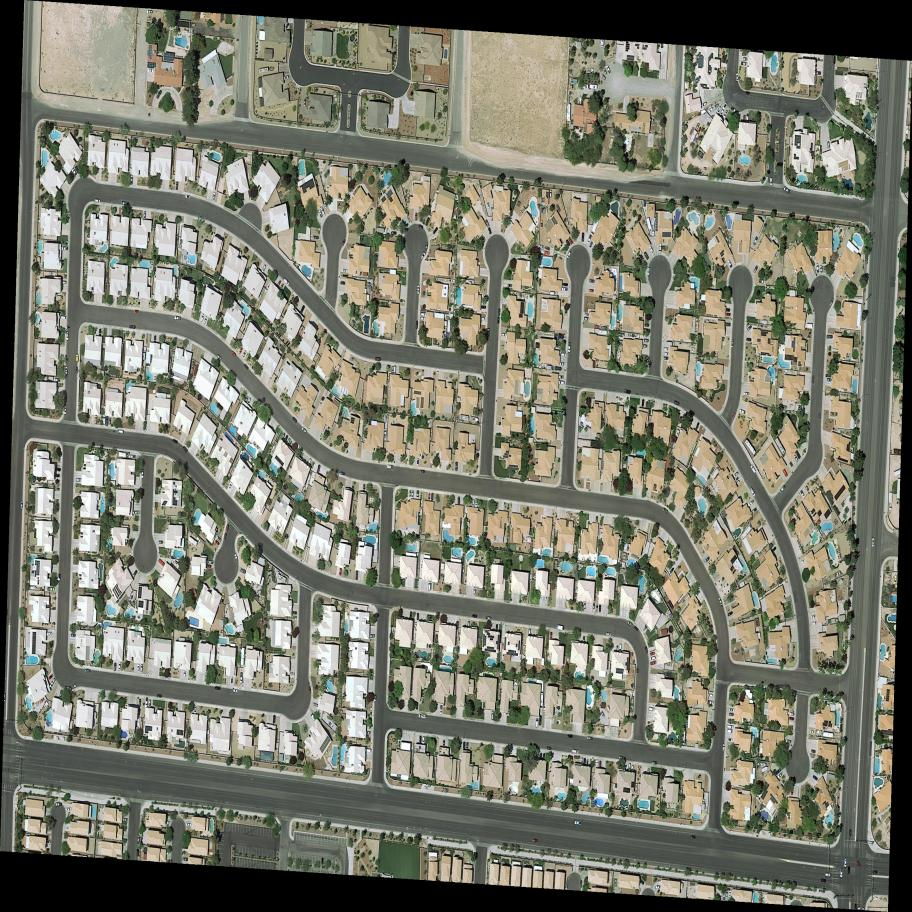large-vehicle: (281, 277, 292, 287), (555, 624, 566, 632), (194, 535, 203, 544), (393, 365, 396, 375)
ship: (759, 765, 770, 775), (585, 67, 594, 74), (758, 761, 766, 767), (744, 90, 751, 96)
small-vehicle: (156, 557, 167, 568), (155, 89, 164, 100), (687, 408, 697, 417), (703, 554, 712, 564), (73, 165, 82, 175), (748, 486, 756, 497), (794, 449, 802, 460), (260, 263, 268, 274), (632, 624, 641, 633), (242, 362, 251, 371), (811, 773, 820, 782), (599, 709, 607, 719), (283, 21, 291, 31), (432, 226, 440, 236), (648, 244, 655, 255), (726, 610, 735, 618), (668, 566, 676, 575), (706, 558, 714, 567), (229, 350, 238, 358), (729, 105, 738, 113), (131, 569, 139, 578), (546, 236, 554, 245), (750, 464, 757, 474), (643, 251, 650, 261), (588, 239, 595, 249), (717, 596, 724, 606), (721, 101, 728, 111), (227, 481, 234, 491), (299, 304, 306, 314), (555, 203, 562, 213), (732, 470, 740, 478), (746, 324, 754, 332), (747, 499, 755, 507), (776, 772, 784, 780), (215, 353, 223, 361), (49, 678, 56, 687), (855, 860, 862, 869), (600, 72, 607, 81), (276, 279, 283, 288), (564, 238, 571, 247), (753, 236, 759, 246), (829, 297, 835, 307), (425, 217, 431, 227), (221, 592, 226, 604), (484, 219, 490, 229), (783, 186, 791, 193), (627, 620, 634, 628), (71, 168, 78, 176), (745, 336, 753, 343), (700, 101, 708, 108), (339, 470, 347, 477), (212, 581, 219, 589), (239, 567, 247, 574), (70, 683, 78, 690), (316, 463, 321, 474), (59, 688, 64, 699), (341, 238, 347, 247), (723, 109, 729, 118), (649, 660, 658, 666), (725, 724, 734, 730), (418, 713, 427, 719), (602, 68, 608, 77), (243, 395, 249, 404), (606, 65, 611, 75), (644, 645, 649, 655), (486, 201, 491, 211), (793, 455, 800, 462), (662, 508, 669, 515), (771, 545, 778, 552), (707, 107, 714, 114), (558, 334, 565, 341), (283, 74, 290, 81), (292, 415, 298, 423), (47, 674, 55, 680), (420, 252, 426, 260), (780, 485, 786, 493), (800, 490, 806, 498), (568, 237, 574, 245), (673, 400, 681, 406), (543, 250, 551, 256), (649, 655, 657, 661), (581, 83, 589, 89), (788, 461, 794, 469), (64, 686, 72, 692), (29, 585, 37, 591), (549, 290, 557, 296), (310, 713, 315, 722), (234, 554, 239, 563), (727, 259, 732, 268), (587, 235, 592, 244), (697, 126, 702, 135), (135, 848, 140, 857), (307, 457, 312, 466), (728, 889, 733, 898), (424, 242, 429, 251), (239, 672, 243, 683), (839, 867, 843, 878), (893, 574, 897, 585), (142, 350, 146, 361), (538, 715, 542, 726), (455, 461, 459, 472), (214, 540, 221, 546), (387, 464, 394, 470), (713, 102, 719, 109), (753, 266, 759, 273), (782, 470, 788, 477), (750, 508, 757, 514), (583, 312, 590, 318), (707, 700, 714, 706), (824, 872, 831, 878), (815, 70, 822, 76), (826, 334, 833, 340), (799, 559, 806, 565), (214, 685, 221, 691), (342, 268, 349, 274), (417, 224, 424, 230), (555, 366, 562, 372), (238, 347, 243, 355), (793, 498, 798, 506), (566, 251, 571, 259), (568, 342, 572, 352), (571, 748, 579, 753), (623, 389, 631, 394), (641, 398, 645, 408), (648, 651, 656, 656), (847, 865, 851, 875), (805, 485, 810, 493), (595, 759, 599, 769), (355, 571, 359, 581), (272, 714, 276, 724), (416, 490, 420, 500), (247, 397, 252, 405), (374, 356, 382, 361), (230, 675, 234, 685), (58, 315, 66, 320), (415, 701, 419, 711), (415, 320, 419, 330), (722, 891, 726, 901), (474, 497, 478, 507), (175, 182, 179, 192), (216, 536, 222, 542), (225, 524, 229, 533), (302, 427, 308, 433), (118, 662, 122, 671), (605, 632, 611, 638), (587, 735, 593, 741), (735, 480, 741, 486), (734, 476, 740, 482), (679, 415, 683, 424), (645, 400, 649, 409), (642, 343, 648, 349), (598, 604, 602, 613), (722, 743, 726, 752), (790, 787, 794, 796), (746, 113, 750, 122), (308, 686, 312, 695), (410, 490, 414, 499), (409, 610, 413, 619), (422, 735, 426, 744), (690, 834, 696, 840), (391, 230, 397, 236), (481, 304, 487, 310), (560, 361, 566, 367), (427, 492, 431, 501), (174, 316, 181, 321), (242, 351, 247, 358), (312, 702, 319, 707), (717, 106, 722, 113), (695, 123, 700, 130), (590, 84, 597, 89), (643, 328, 650, 333), (759, 279, 766, 284), (728, 707, 735, 712), (820, 878, 827, 883), (365, 748, 372, 753), (562, 282, 569, 287), (417, 285, 420, 296), (491, 710, 494, 721), (201, 313, 205, 321), (204, 316, 208, 324), (212, 193, 216, 201), (321, 207, 325, 215), (319, 210, 323, 218), (581, 233, 585, 241), (592, 602, 596, 610), (844, 859, 848, 867), (193, 706, 197, 714), (153, 334, 157, 342), (98, 328, 102, 336), (47, 587, 55, 591), (586, 758, 590, 766), (549, 631, 553, 639), (462, 741, 466, 749), (362, 483, 366, 491), (133, 510, 139, 515), (123, 817, 129, 822), (145, 697, 148, 707), (741, 61, 747, 66), (740, 409, 746, 414), (659, 242, 662, 252), (643, 338, 649, 343), (66, 331, 69, 341), (811, 614, 817, 619), (589, 278, 595, 283), (664, 351, 669, 357), (595, 324, 600, 330), (544, 246, 550, 251), (538, 244, 544, 249), (727, 729, 733, 734), (619, 643, 622, 653), (872, 870, 878, 875), (789, 716, 795, 721), (786, 739, 792, 744), (810, 749, 816, 754), (825, 373, 831, 378), (826, 378, 832, 383), (809, 729, 815, 734), (137, 834, 140, 844), (183, 857, 189, 862), (45, 839, 51, 844), (374, 693, 377, 703), (291, 610, 297, 615), (61, 280, 67, 285), (207, 563, 212, 569), (71, 633, 77, 638), (398, 604, 403, 610), (567, 734, 573, 739), (457, 496, 460, 506), (340, 280, 346, 285), (540, 220, 543, 230), (420, 312, 426, 317), (558, 375, 564, 380), (223, 533, 227, 540), (129, 325, 136, 329), (146, 10, 153, 14), (707, 693, 714, 697), (536, 719, 539, 728), (65, 366, 68, 375), (103, 416, 106, 425), (816, 263, 819, 272), (820, 265, 823, 274), (647, 267, 650, 276), (64, 406, 67, 415), (849, 829, 852, 838), (391, 365, 394, 374), (143, 211, 146, 220), (148, 699, 151, 708), (138, 699, 141, 708), (456, 621, 459, 630), (528, 628, 531, 637), (472, 498, 475, 507), (304, 99, 307, 108), (130, 454, 135, 459), (589, 288, 594, 293), (539, 249, 544, 254), (619, 755, 624, 760), (166, 851, 171, 856), (370, 633, 375, 638), (366, 731, 371, 736), (157, 693, 162, 698), (656, 884, 661, 889), (480, 316, 485, 321), (339, 568, 342, 576), (486, 617, 492, 621), (497, 317, 500, 325), (95, 416, 98, 424), (76, 478, 82, 482), (20, 501, 23, 509), (46, 632, 52, 636), (85, 669, 91, 673), (113, 663, 116, 671), (137, 664, 140, 672), (827, 141, 830, 149), (415, 214, 418, 222), (549, 190, 552, 198), (561, 287, 567, 291), (561, 353, 567, 357), (574, 821, 580, 825), (130, 176, 133, 184), (744, 392, 750, 396), (644, 323, 650, 327), (727, 738, 733, 742), (709, 662, 715, 666), (616, 644, 619, 652), (743, 114, 746, 122), (628, 763, 631, 771), (599, 760, 602, 768), (165, 821, 171, 825), (158, 540, 164, 544), (583, 602, 586, 610), (467, 620, 470, 628), (443, 739, 446, 747), (466, 742, 469, 750), (583, 757, 586, 765), (726, 889, 729, 897), (420, 317, 426, 321), (431, 493, 434, 501), (324, 201, 327, 208), (636, 668, 639, 675), (76, 355, 79, 362), (631, 765, 634, 772), (647, 767, 650, 774), (419, 736, 422, 743), (185, 195, 190, 199), (440, 705, 442, 715), (472, 615, 477, 619), (428, 581, 430, 591), (420, 469, 425, 473), (134, 310, 139, 314), (118, 430, 123, 434), (56, 802, 61, 806), (234, 689, 239, 693), (501, 332, 506, 336), (584, 317, 589, 321), (560, 381, 565, 385), (664, 356, 669, 360), (664, 347, 669, 351), (812, 621, 817, 625), (726, 308, 731, 312), (729, 712, 734, 716), (789, 712, 794, 716), (547, 746, 552, 750), (417, 458, 419, 467), (106, 416, 108, 425), (142, 470, 144, 479), (720, 109, 723, 115), (770, 177, 772, 186), (872, 538, 874, 547), (533, 839, 539, 842), (62, 247, 68, 250), (725, 313, 731, 316), (148, 69, 154, 72), (417, 612, 419, 621), (473, 589, 476, 595), (67, 808, 71, 812), (736, 73, 738, 81), (583, 635, 585, 643), (208, 561, 213, 564), (652, 762, 657, 765), (95, 199, 100, 202), (122, 202, 127, 205), (109, 418, 111, 425), (498, 309, 500, 316), (731, 340, 733, 347), (581, 757, 583, 764), (313, 237, 319, 239), (141, 665, 143, 671), (187, 824, 191, 827), (184, 671, 186, 677), (743, 57, 747, 60), (649, 708, 655, 710)
